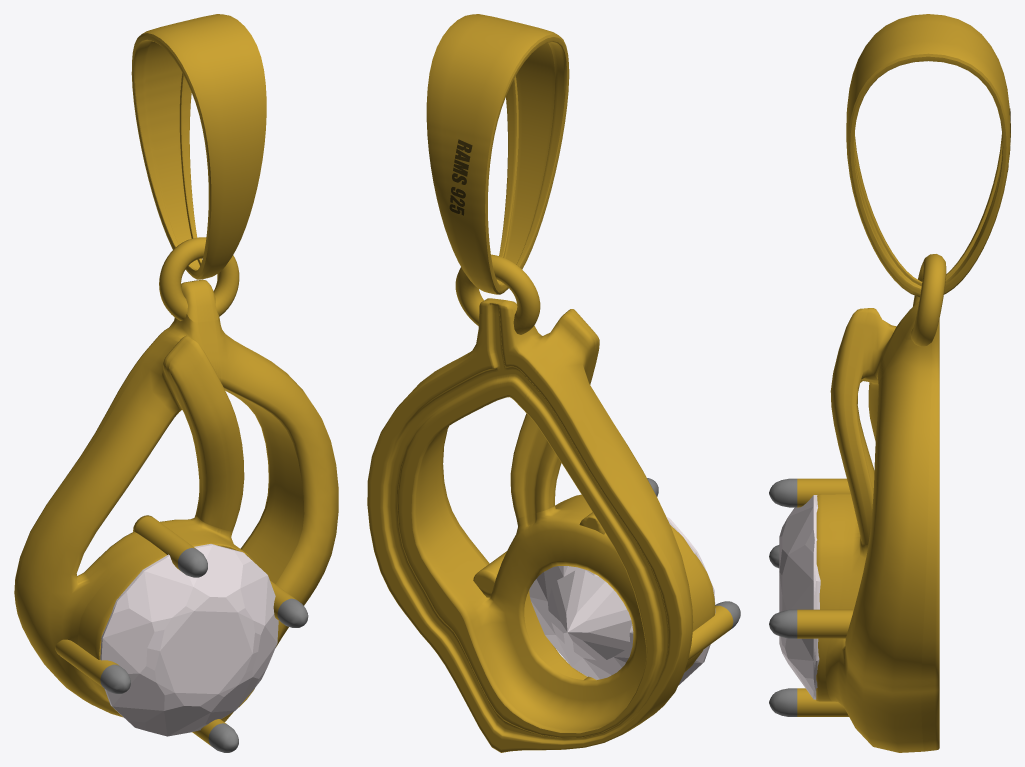
Rendered from Necklace3.glb.
3 views of the same model, side by side, from view 1: azimuth 30°, elevation 25°; view 2: azimuth 150°, elevation 25°; view 3: azimuth 270°, elevation 25° (orthographic). The views are drawn at different scales.
Parts seen in each view (by area): view 1: NecklacebBody, NecklaceHead, Diamond, NecklaceMetals, NecklaceRing; view 2: NecklacebBody, NecklaceHead, Diamond, NecklaceRing, NecklaceMetals, Text(Serial Number); view 3: NecklacebBody, NecklaceHead, NecklaceMetals, Diamond, NecklaceRing.
Boxes of the visible parts, box(x1,y1,x2,y2) form: NecklacebBody: box(14, 279, 338, 721); NecklaceHead: box(131, 14, 266, 279); Diamond: box(100, 544, 278, 736); NecklaceMetals: box(55, 515, 308, 752); NecklaceRing: box(159, 237, 239, 320); NecklacebBody: box(367, 298, 715, 752); NecklaceHead: box(426, 14, 569, 294); Diamond: box(529, 500, 715, 685); NecklaceRing: box(455, 254, 540, 334); NecklaceMetals: box(473, 478, 740, 680); Text(Serial Number): box(449, 139, 472, 215); NecklacebBody: box(816, 301, 939, 752); NecklaceHead: box(846, 14, 1010, 297); NecklaceMetals: box(769, 478, 853, 716); Diamond: box(779, 495, 820, 699); NecklaceRing: box(910, 254, 946, 346).
Size of the model in its own units: 0.9693 by 2.1 by 0.6369.
